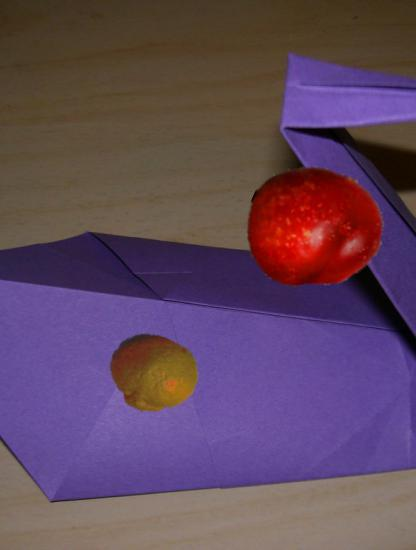Mandarine: (108, 329, 198, 419)
Nectarine: (245, 161, 382, 298)
